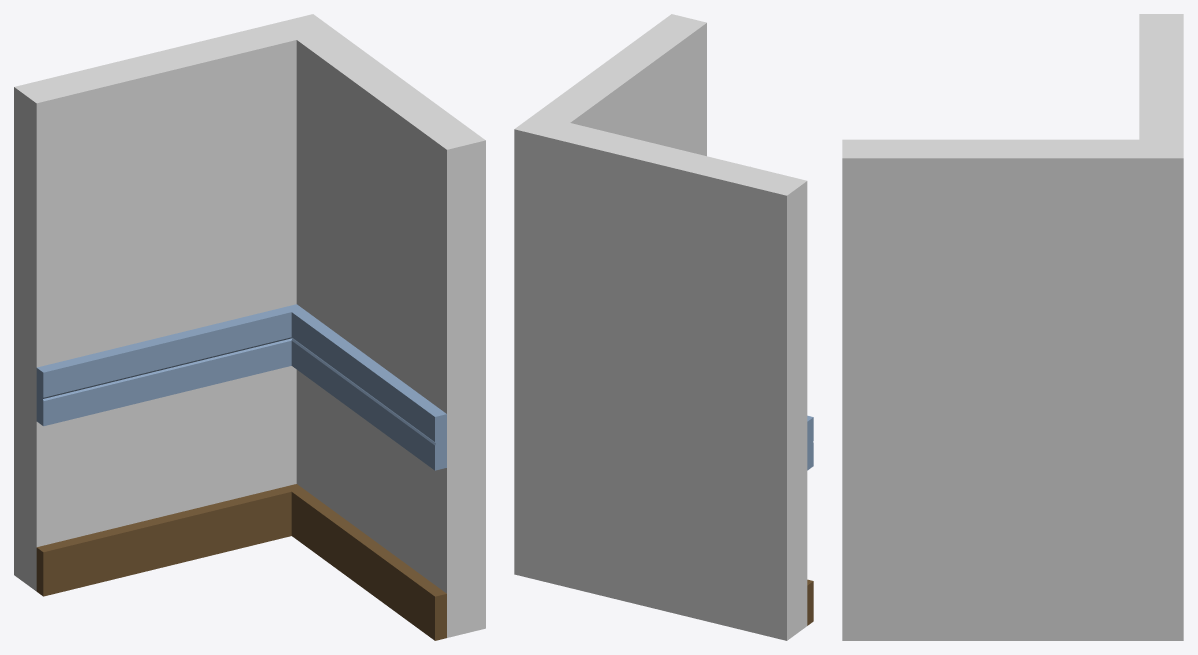
File: H_Wall_Corner_Ward.fbx
3 renders of one model, left to right at view 1: azimuth 30°, elevation 25°; view 2: azimuth 150°, elevation 25°; view 3: azimuth 270°, elevation 25°, orthographic. The views are drawn at different scales.
Visible parts, largest first — view 1: H_Wall_Corner_Ward; view 2: H_Wall_Corner_Ward; view 3: H_Wall_Corner_Ward.
Boxes of the visible parts, x1,y1,x2,y2 form: H_Wall_Corner_Ward: [14, 14, 485, 640]; H_Wall_Corner_Ward: [514, 14, 813, 640]; H_Wall_Corner_Ward: [842, 14, 1183, 640].
Bounding box in the file's own units: 1000 × 1000 × 1560.
